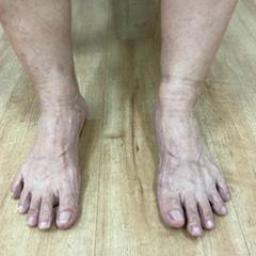Dorsal View -Both Feet-: (4, 63, 243, 246)
